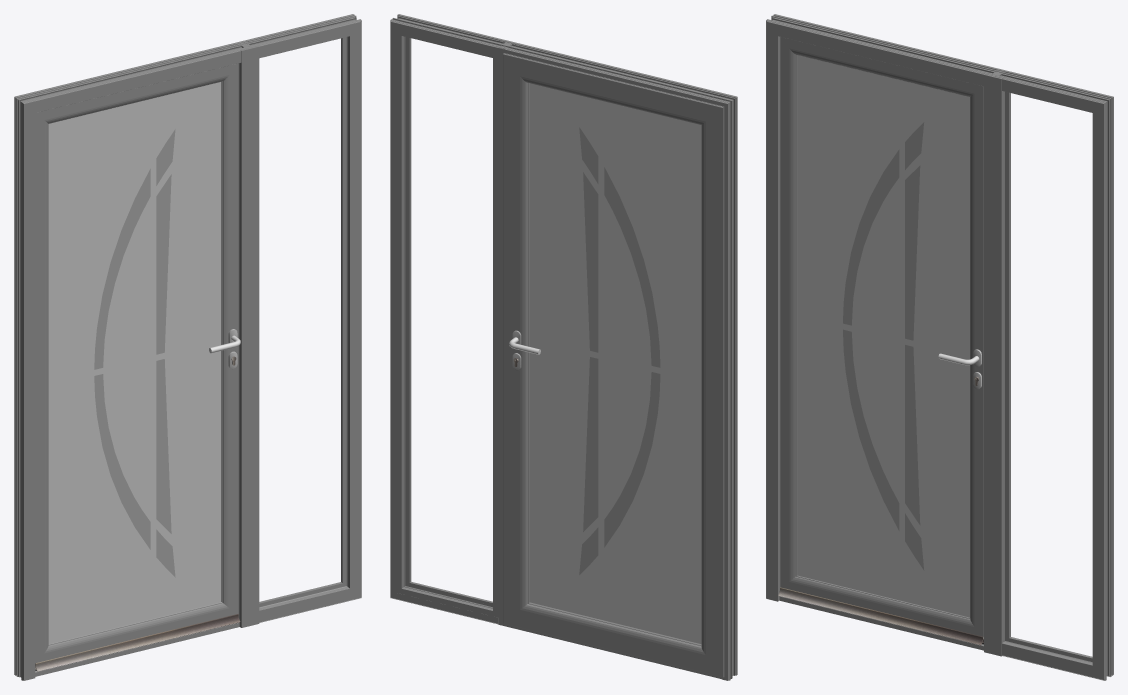
The picture shows the model from 3 angles, left to right: view 1: azimuth 30°, elevation 25°; view 2: azimuth 150°, elevation 25°; view 3: azimuth 330°, elevation 25°; orthographic projection.
Parts seen in each view (by area): view 1: fosco_5, aroFixo, aroMovel, montanteCentral, transparente_5, bite, borracha, escovas, rodaPe; view 2: fosco_5, aroMovel, aroFixo, transparente_5, bite, montanteCentral, borracha, rodaPe; view 3: fosco_5, aroFixo, aroMovel, montanteCentral, transparente_5, bite, escovas, borracha, rodaPe.
Boxes of the visible parts, x1,y1,x2,y2 form: fosco_5: [48, 82, 221, 643]; aroFixo: [14, 14, 361, 680]; aroMovel: [35, 63, 238, 663]; montanteCentral: [238, 42, 259, 627]; transparente_5: [94, 129, 175, 577]; bite: [259, 37, 346, 607]; borracha: [259, 37, 345, 606]; escovas: [35, 614, 240, 671]; rodaPe: [35, 622, 239, 676]; fosco_5: [529, 83, 701, 644]; aroMovel: [503, 53, 724, 677]; aroFixo: [390, 14, 737, 680]; transparente_5: [579, 127, 660, 574]; bite: [396, 29, 498, 617]; montanteCentral: [498, 40, 518, 626]; borracha: [404, 36, 492, 608]; rodaPe: [505, 624, 721, 679]; fosco_5: [797, 55, 969, 617]; aroFixo: [766, 14, 1113, 680]; aroMovel: [780, 37, 983, 638]; montanteCentral: [984, 70, 1004, 656]; transparente_5: [843, 122, 924, 570]; bite: [1005, 91, 1092, 661]; escovas: [778, 587, 983, 645]; borracha: [1006, 92, 1092, 660]; rodaPe: [779, 596, 983, 650].
Size of the model in its own units: 1320 by 2149 by 185.
10 materials, 4 textured.
